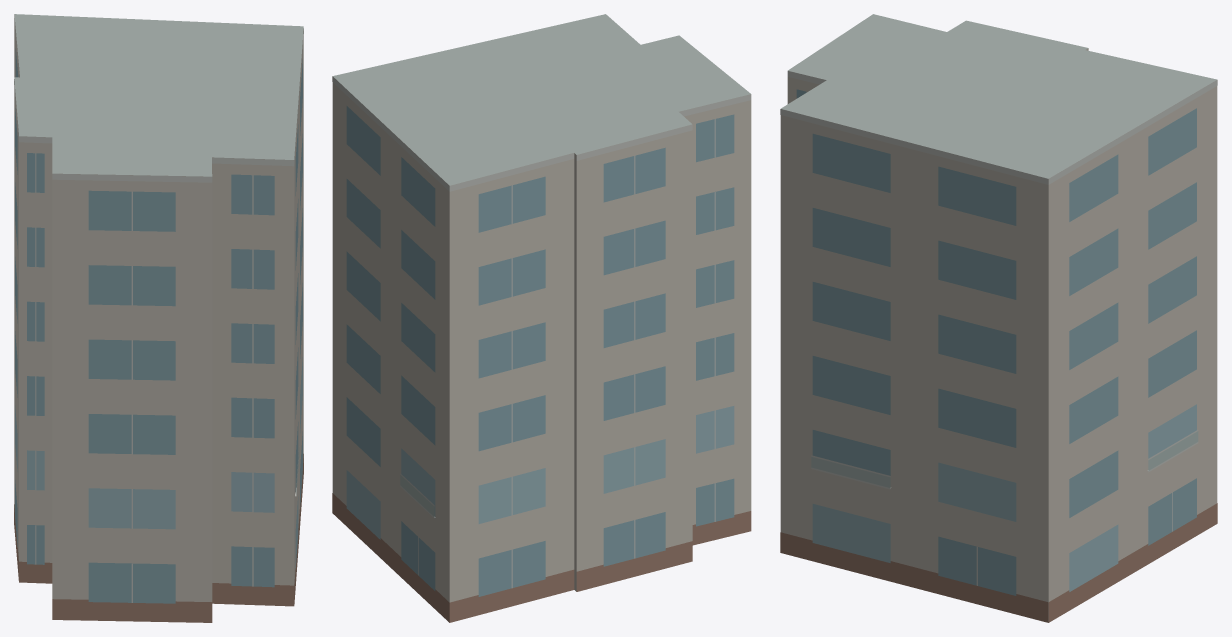
The model's file is survey-upis-32671543.glb.
3 views of the same model, side by side, from view 1: azimuth 30°, elevation 25°; view 2: azimuth 150°, elevation 25°; view 3: azimuth 270°, elevation 25° (orthographic). The views are drawn at different scales.
Visible parts, largest first — view 1: survey-upis-32671543.tmp; view 2: survey-upis-32671543.tmp; view 3: survey-upis-32671543.tmp.
Boxes of the visible parts, x1,y1,x2,y2 form: survey-upis-32671543.tmp: (14, 14, 303, 622); survey-upis-32671543.tmp: (332, 14, 751, 622); survey-upis-32671543.tmp: (780, 14, 1217, 622).
Size of the model in its own units: 14.14 by 17.75 by 15.84.
